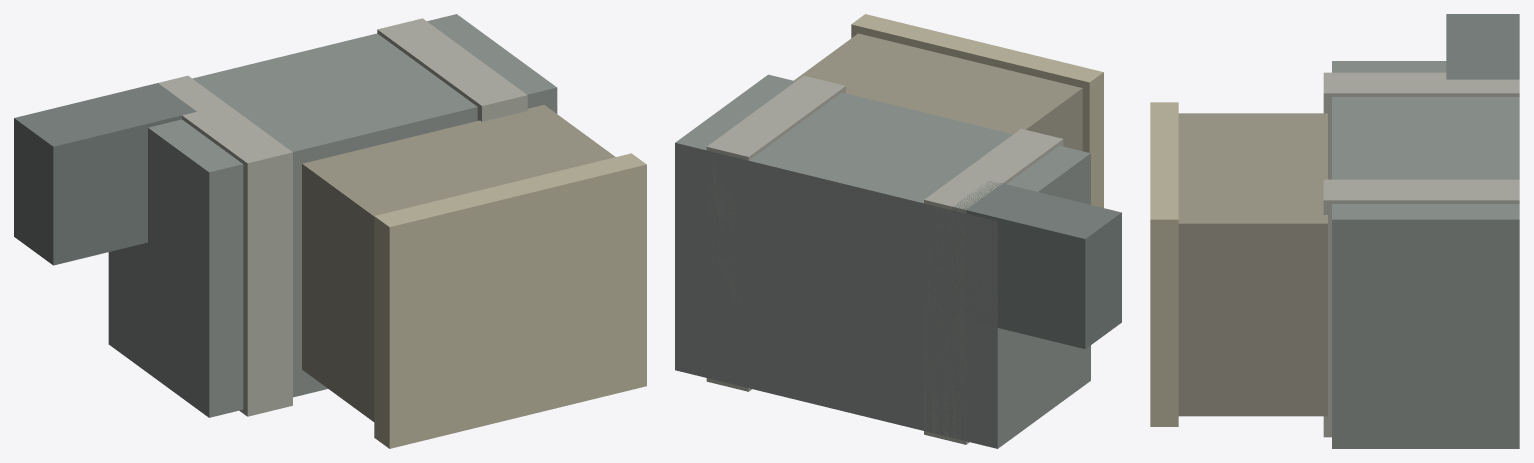
Rendered from maintenance_crates.glb.
3 views of the same model, side by side, from view 1: azimuth 30°, elevation 25°; view 2: azimuth 150°, elevation 25°; view 3: azimuth 270°, elevation 25° (orthographic). The views are drawn at different scales.
Parts seen in each view (by area): view 1: upper_lid, lower_crate, upper_crate, loose_case, lower_band_a, lower_band_b; view 2: lower_crate, loose_case, upper_crate, upper_lid, lower_band_a, lower_band_b; view 3: lower_crate, upper_crate, upper_lid, lower_band_b, loose_case, lower_band_a.
Boxes of the visible parts, x1,y1,x2,y2 form: upper_lid: (374,153,646,448); lower_crate: (108,14,557,417); upper_crate: (302,105,615,421); loose_case: (14,83,196,265); lower_band_a: (158,75,292,416); lower_band_b: (377,18,527,121); lower_crate: (675,74,1090,448); loose_case: (952,181,1121,349); upper_crate: (794,33,1082,150); upper_lid: (851,14,1103,207); lower_band_a: (924,128,1063,444); lower_band_b: (706,75,845,391); lower_crate: (1332,61,1519,448); upper_crate: (1178,113,1327,416); upper_lid: (1150,102,1178,426); lower_band_b: (1323,179,1519,437); loose_case: (1446,14,1519,79); lower_band_a: (1323,72,1519,179).
Bounding box in the file's own units: 1.17 × 0.64 × 0.905.
